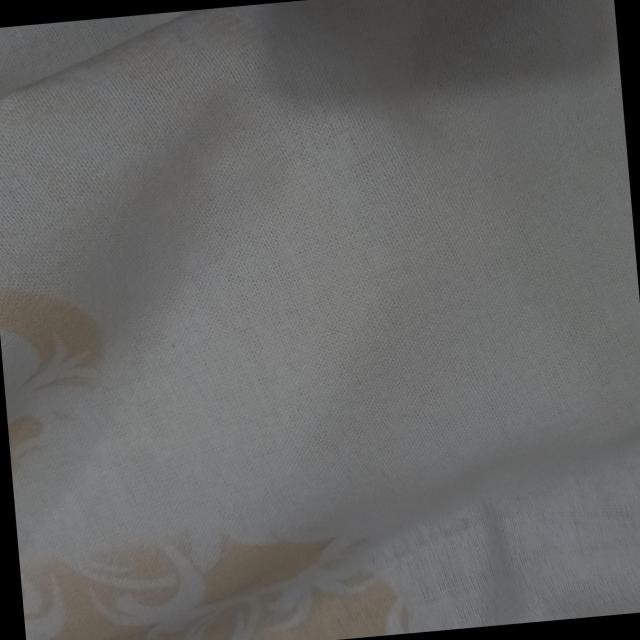color issues: (0, 0, 638, 339), (1, 297, 640, 590), (381, 541, 640, 635)
